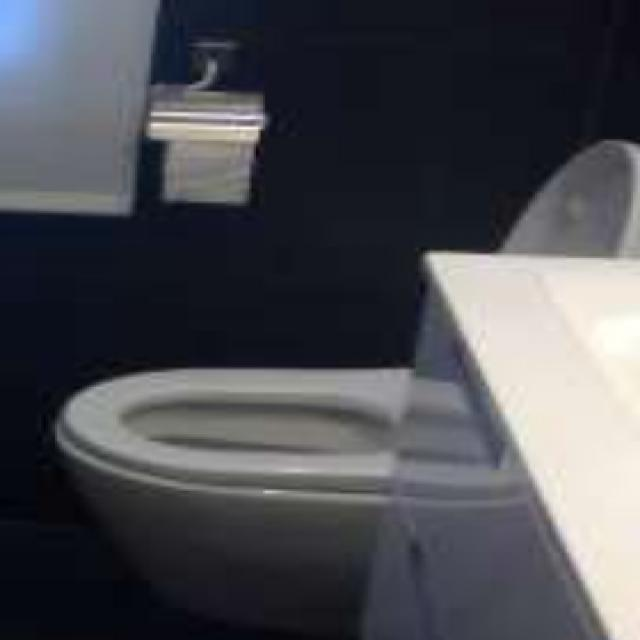toilet: (52, 137, 640, 639)
wastafel: (422, 248, 640, 639), (356, 283, 594, 640)
